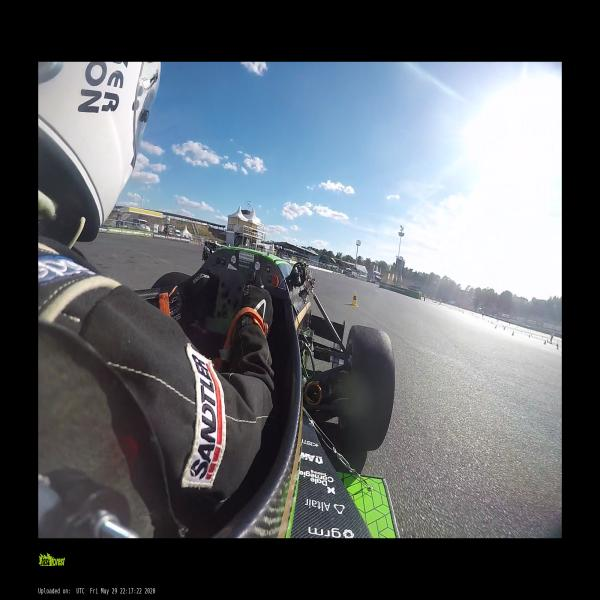yellow_cone: (350, 291, 358, 307), (511, 331, 514, 336), (556, 345, 559, 350), (543, 340, 546, 345), (528, 334, 530, 338), (494, 325, 496, 328), (504, 326, 505, 330), (521, 331, 522, 334)
